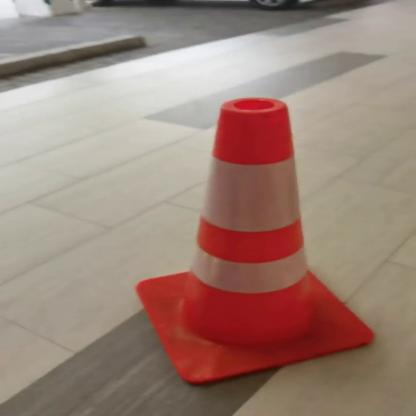cone: (113, 97, 407, 392)
